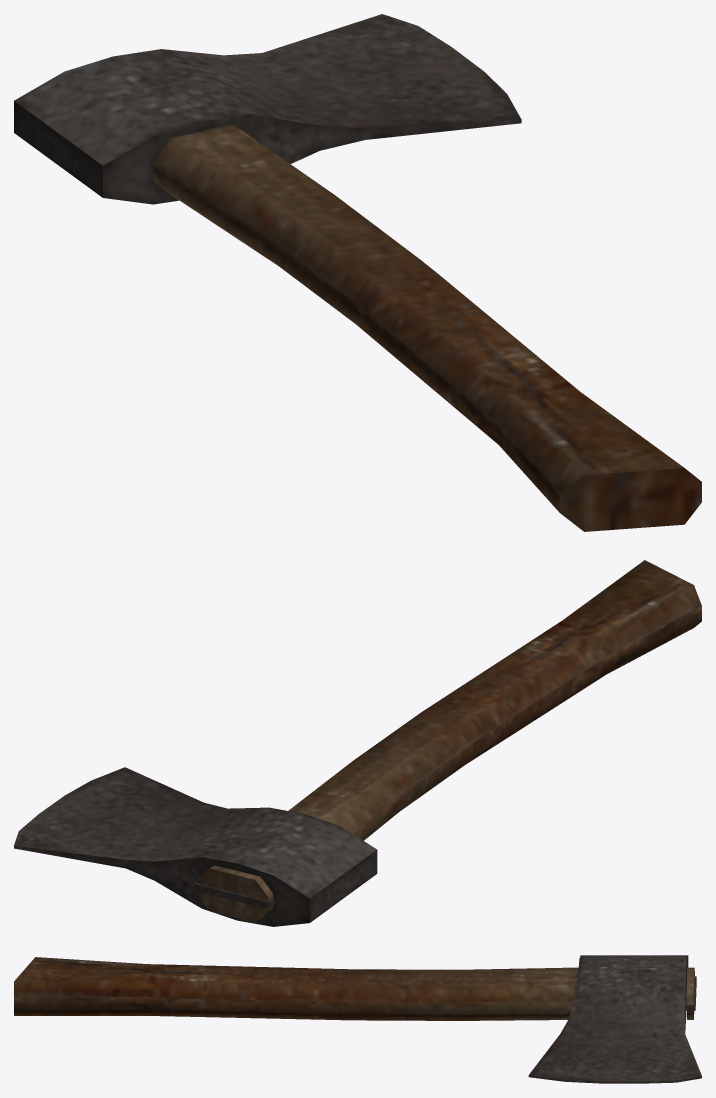
File: axe_mx_1.obj
The picture shows the model from 3 angles, top to bottom: view 1: azimuth 30°, elevation 25°; view 2: azimuth 150°, elevation 25°; view 3: azimuth 270°, elevation 25°; orthographic projection. The views are drawn at different scales.
Parts seen in each view (by area): view 1: axe_mx_1; view 2: axe_mx_1; view 3: axe_mx_1.
Part boxes in pixels (x1,y1,x2,y2): axe_mx_1: [14, 14, 701, 531]; axe_mx_1: [14, 560, 701, 926]; axe_mx_1: [14, 955, 701, 1083].
Size of the model in its own units: 0.2641 by 0.048 by 0.6527.
